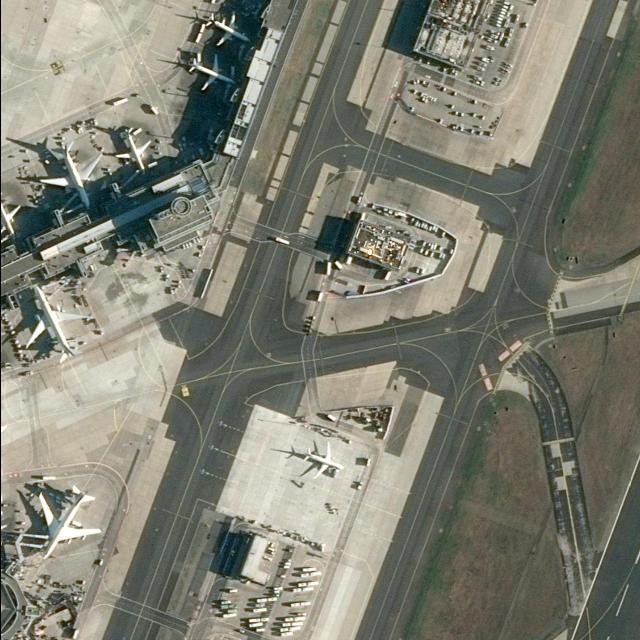Aircraft: (36, 483, 100, 560), (24, 282, 86, 356), (38, 142, 101, 208), (114, 128, 153, 174), (184, 54, 230, 92), (207, 11, 250, 42), (0, 192, 22, 238)
